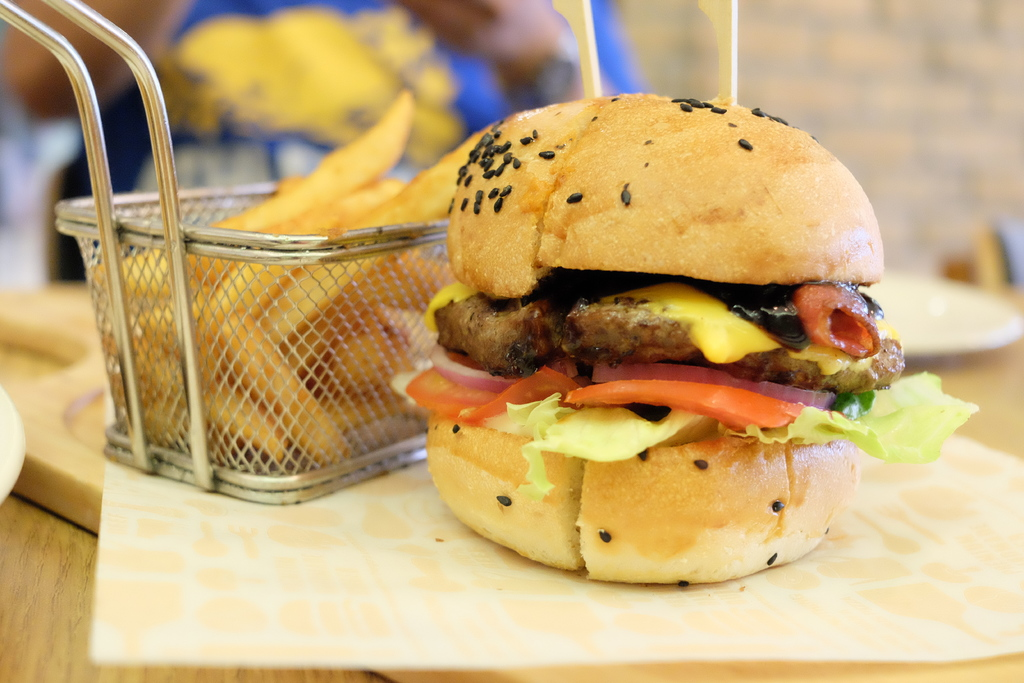Hamburger: (407, 89, 972, 592)
